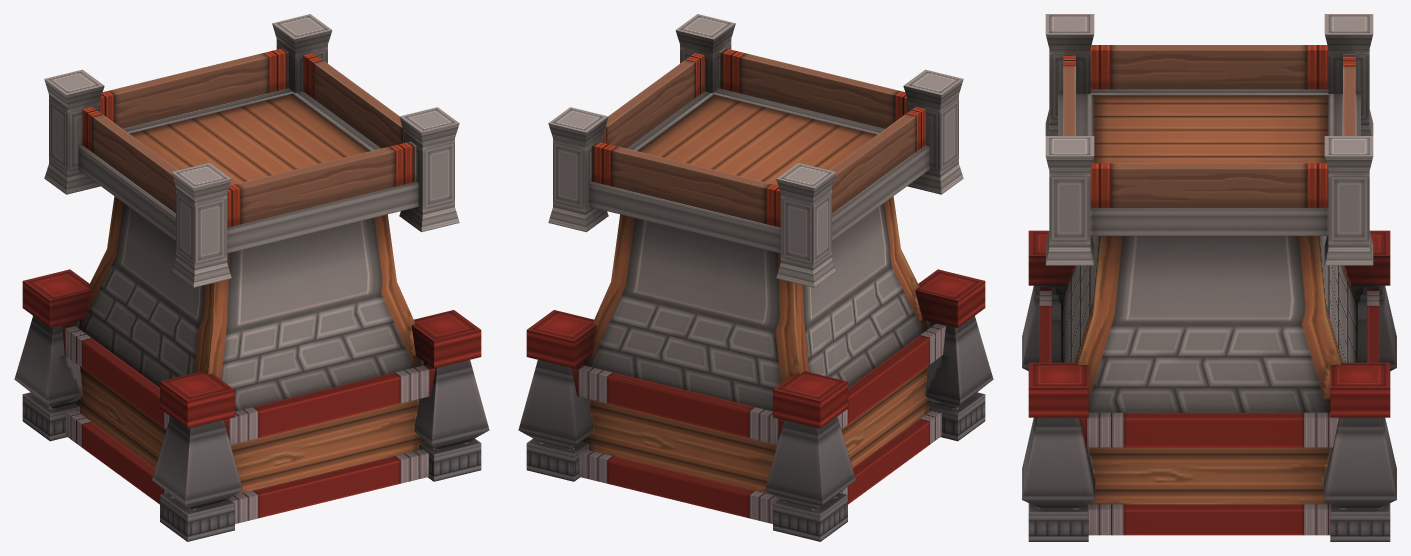
File: ArcherTower_Level2.FBX
3 renders of one model, left to right at view 1: azimuth 30°, elevation 25°; view 2: azimuth 150°, elevation 25°; view 3: azimuth 270°, elevation 25°, orthographic. The views are drawn at different scales.
Visible parts, largest first — view 1: ArcherTower_Level2; view 2: ArcherTower_Level2; view 3: ArcherTower_Level2.
Boxes of the visible parts, bbox=[...] form: ArcherTower_Level2: bbox=[14, 14, 489, 541]; ArcherTower_Level2: bbox=[518, 14, 993, 541]; ArcherTower_Level2: bbox=[1022, 14, 1396, 541].
Bounding box in the file's own units: 46.06 × 49.85 × 44.8.
